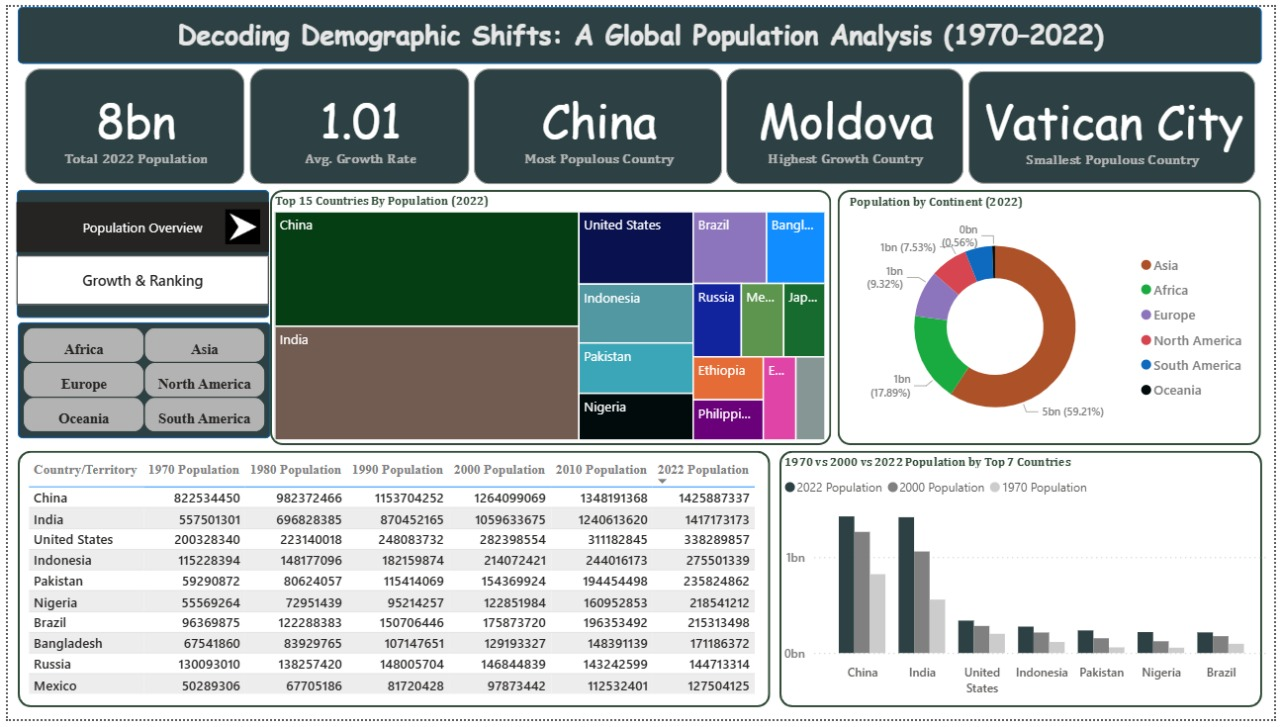

This screenshot's page, from the dashboard's own definition file:
{"tool":"powerbi","page":{"name":"Population Overview","canvas":[1280,720],"ordinal":0},"visuals":[{"type":"shape","box":[10,0,1257.5,57.5],"z":0},{"type":"textbox","box":[163.8,3.8,951.2,48.8],"z":1000},{"type":"shape","box":[780.2,448.8,487.9,259.2],"z":2000},{"type":"shape","box":[838.9,184.6,428,258],"z":3000},{"type":"shape","box":[265.4,184.6,567.4,258],"z":4000},{"type":"cardVisual","fields":{"Data":["Sum(world_population.2022 Population)","Avg(world_population.Growth Rate)"]},"box":[12.2,57.5,459.8,127.2],"z":5000},{"type":"cardVisual","fields":{"Data":["world_population.Highest_Growth_Country"]},"box":[721.5,57.5,250.7,127.2],"z":6000},{"type":"cardVisual","fields":{"Data":["world_population.Smallest_Pop_Country"]},"box":[966,59.9,300.8,124.7],"z":7000},{"type":"shape","box":[9.8,448.8,760.6,259.2],"z":8000},{"type":"donutChart","title":"Population by Continent (2022)","fields":{"Y":["Sum(world_population.2022 Population)"],"Category":["world_population.Continent"]},"box":[846.2,189.5,415.8,253.1],"z":9000},{"type":"cardVisual","fields":{"Data":["world_population.Most_Populous_Country"]},"box":[465.9,57.5,261.7,127.2],"z":10000},{"type":"clusteredColumnChart","title":"1970 vs 2000 vs 2022 Population by Top 7 Countries","fields":{"Y":["Sum(world_population.2022 Population)","Sum(world_population.2000 Population)","Sum(world_population.1970 Population)"],"Category":["world_population.Country/Territory"]},"box":[779.9,452.4,500.1,251.9],"z":11000},{"type":"treemap","title":"Top 15 Countries By Population (2022)","fields":{"Group":["world_population.Country/Territory"],"Values":["Sum(world_population.2022 Population)"]},"box":[265.4,188.3,566.2,254.3],"z":12000},{"type":"shape","box":[9.8,319.2,255.6,117.4],"z":13000},{"type":"tableEx","fields":{"Values":["world_population.Country/Territory","Sum(world_population.1970 Population)","Sum(world_population.1980 Population)","Sum(world_population.1990 Population)","Sum(world_population.2000 Population)","Sum(world_population.2010 Population)","Sum(world_population.2022 Population)"]},"box":[14.7,453.7,748.4,250.7],"z":14000},{"type":"advancedSlicerVisual","fields":{"Values":["world_population.Continent"]},"box":[11,320.4,253.1,114.9],"z":15000},{"type":"shape","box":[8.6,184.6,255.6,129.6],"z":16000},{"type":"pageNavigator","box":[8.6,196.9,255.6,50.1],"z":17000},{"type":"pageNavigator","box":[8.6,250.7,255.6,50.1],"z":18000},{"type":"image","box":[215.2,198.1,45.2,48.9],"z":19000}]}

Visuals, with their boxes in screenshot pixels (x1, y1, x2, y2), scaled from the page's 1280x720 canvas onto the 1280x727 screenshot:
shape: (10, 0, 1268, 58)
textbox: (164, 4, 1115, 53)
shape: (780, 453, 1268, 715)
shape: (839, 186, 1267, 447)
shape: (265, 186, 833, 447)
cardVisual - Sum(world_population.2022 Population) x Avg(world_population.Growth Rate): (12, 58, 472, 186)
cardVisual - world_population.Highest_Growth_Country: (722, 58, 972, 186)
cardVisual - world_population.Smallest_Pop_Country: (966, 60, 1267, 186)
shape: (10, 453, 770, 715)
"Population by Continent (2022)" donutChart: (846, 191, 1262, 447)
cardVisual - world_population.Most_Populous_Country: (466, 58, 728, 186)
"1970 vs 2000 vs 2022 Population by Top 7 Countries" clusteredColumnChart: (780, 457, 1279, 711)
"Top 15 Countries By Population (2022)" treemap: (265, 190, 832, 447)
shape: (10, 322, 265, 441)
tableEx - world_population.Country/Territory x Sum(world_population.1970 Population): (15, 458, 763, 711)
advancedSlicerVisual - world_population.Continent: (11, 324, 264, 440)
shape: (9, 186, 264, 317)
pageNavigator: (9, 199, 264, 249)
pageNavigator: (9, 253, 264, 304)
image: (215, 200, 260, 249)
